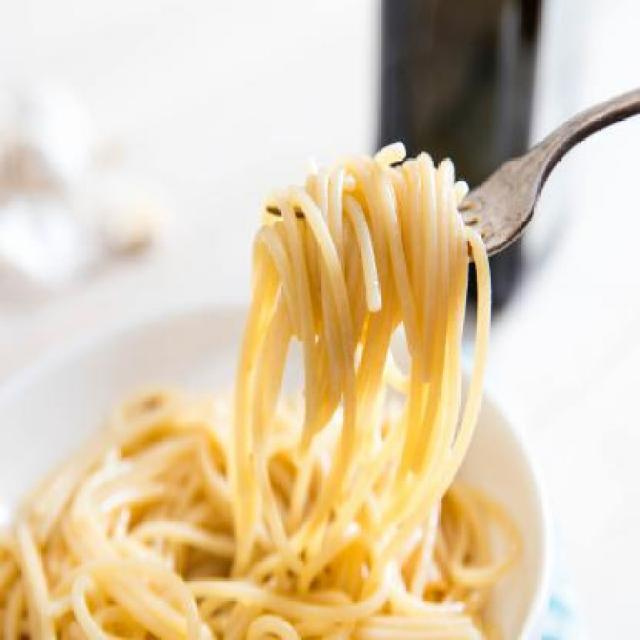Oil pasta: (21, 129, 508, 640)
